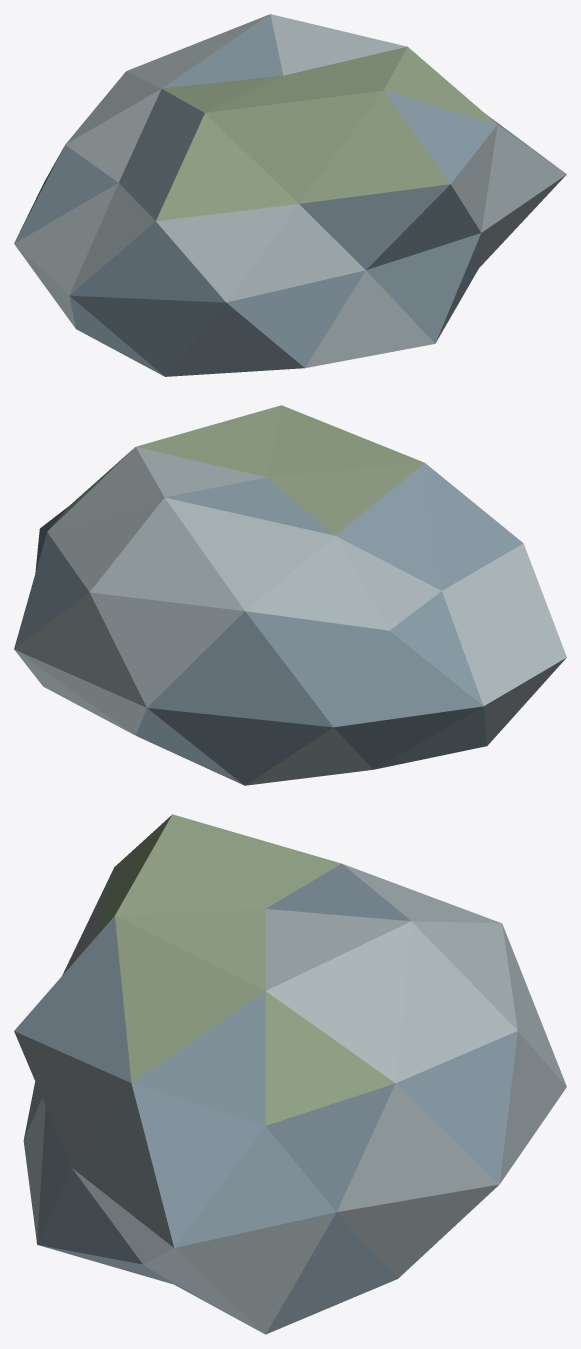
File: rock-1.glb
3 renders of one model, top to bottom at view 1: azimuth 30°, elevation 25°; view 2: azimuth 150°, elevation 25°; view 3: azimuth 270°, elevation 25°, orthographic. The views are drawn at different scales.
Visible parts, largest first — view 1: rock; view 2: rock; view 3: rock.
Boxes of the visible parts, x1=… form: rock: x1=14, y1=14, x2=566, y2=376; rock: x1=14, y1=405, x2=566, y2=785; rock: x1=14, y1=814, x2=566, y2=1334.
Bounding box in the file's own units: 8.34 × 3.92 × 6.06.
